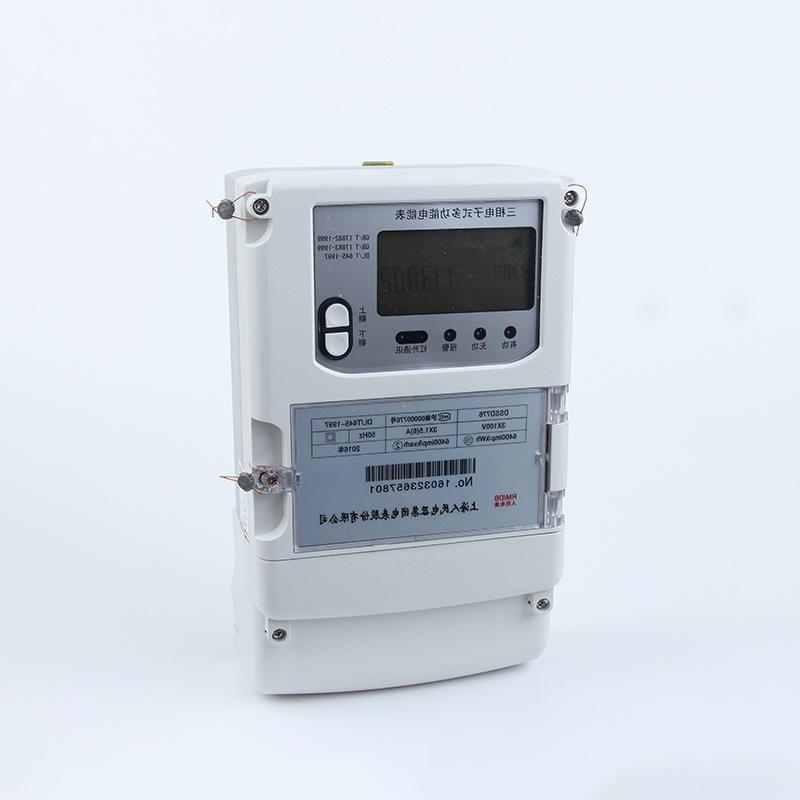digital: (242, 171, 558, 623)
